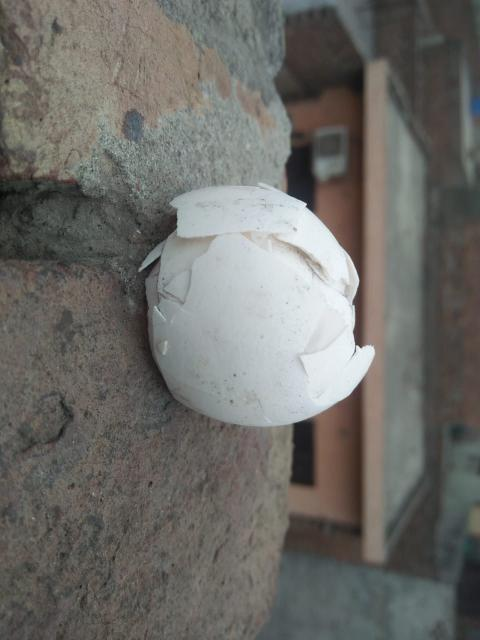Roto: (138, 181, 376, 428)
